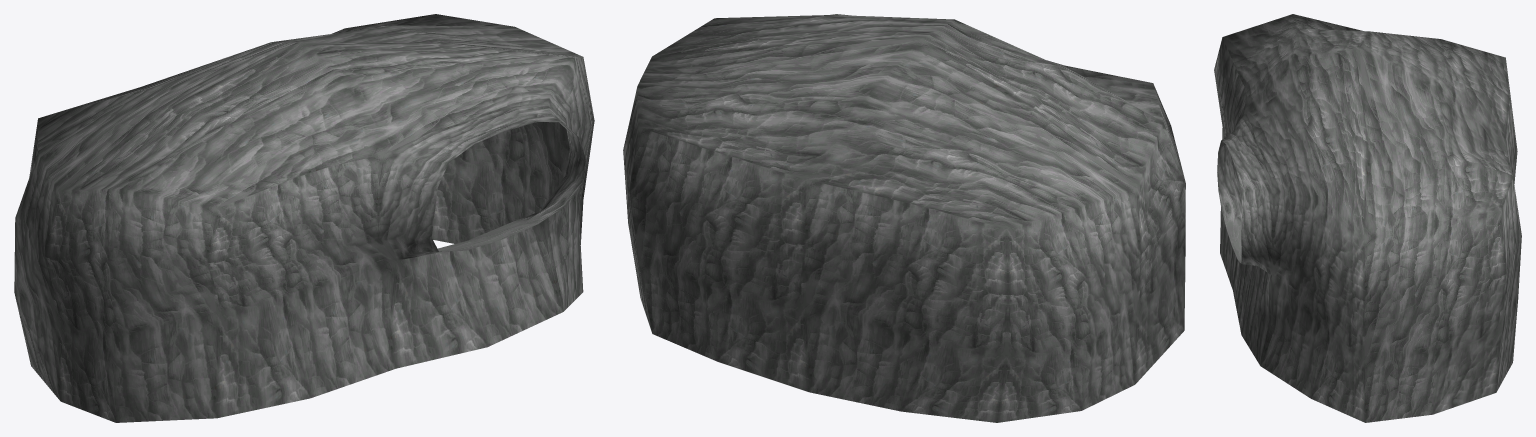
Rendered from SWORDLIGHT20_PS-AREA03-04TRANS_01.fbx.
3 views of the same model, side by side, from view 1: azimuth 30°, elevation 25°; view 2: azimuth 150°, elevation 25°; view 3: azimuth 270°, elevation 25° (orthographic). The views are drawn at different scales.
Visible parts, largest first — view 1: SWORDLIGHT20_PS-AREA03-04TRANS_01; view 2: SWORDLIGHT20_PS-AREA03-04TRANS_01; view 3: SWORDLIGHT20_PS-AREA03-04TRANS_01.
Boxes of the visible parts, left/top/right/bottom form: SWORDLIGHT20_PS-AREA03-04TRANS_01: left=14, top=14, right=594, bottom=422; SWORDLIGHT20_PS-AREA03-04TRANS_01: left=623, top=14, right=1185, bottom=422; SWORDLIGHT20_PS-AREA03-04TRANS_01: left=1214, top=14, right=1521, bottom=422.
Size of the model in its own units: 207764 by 119036 by 121270.
2 materials, 2 textured.
